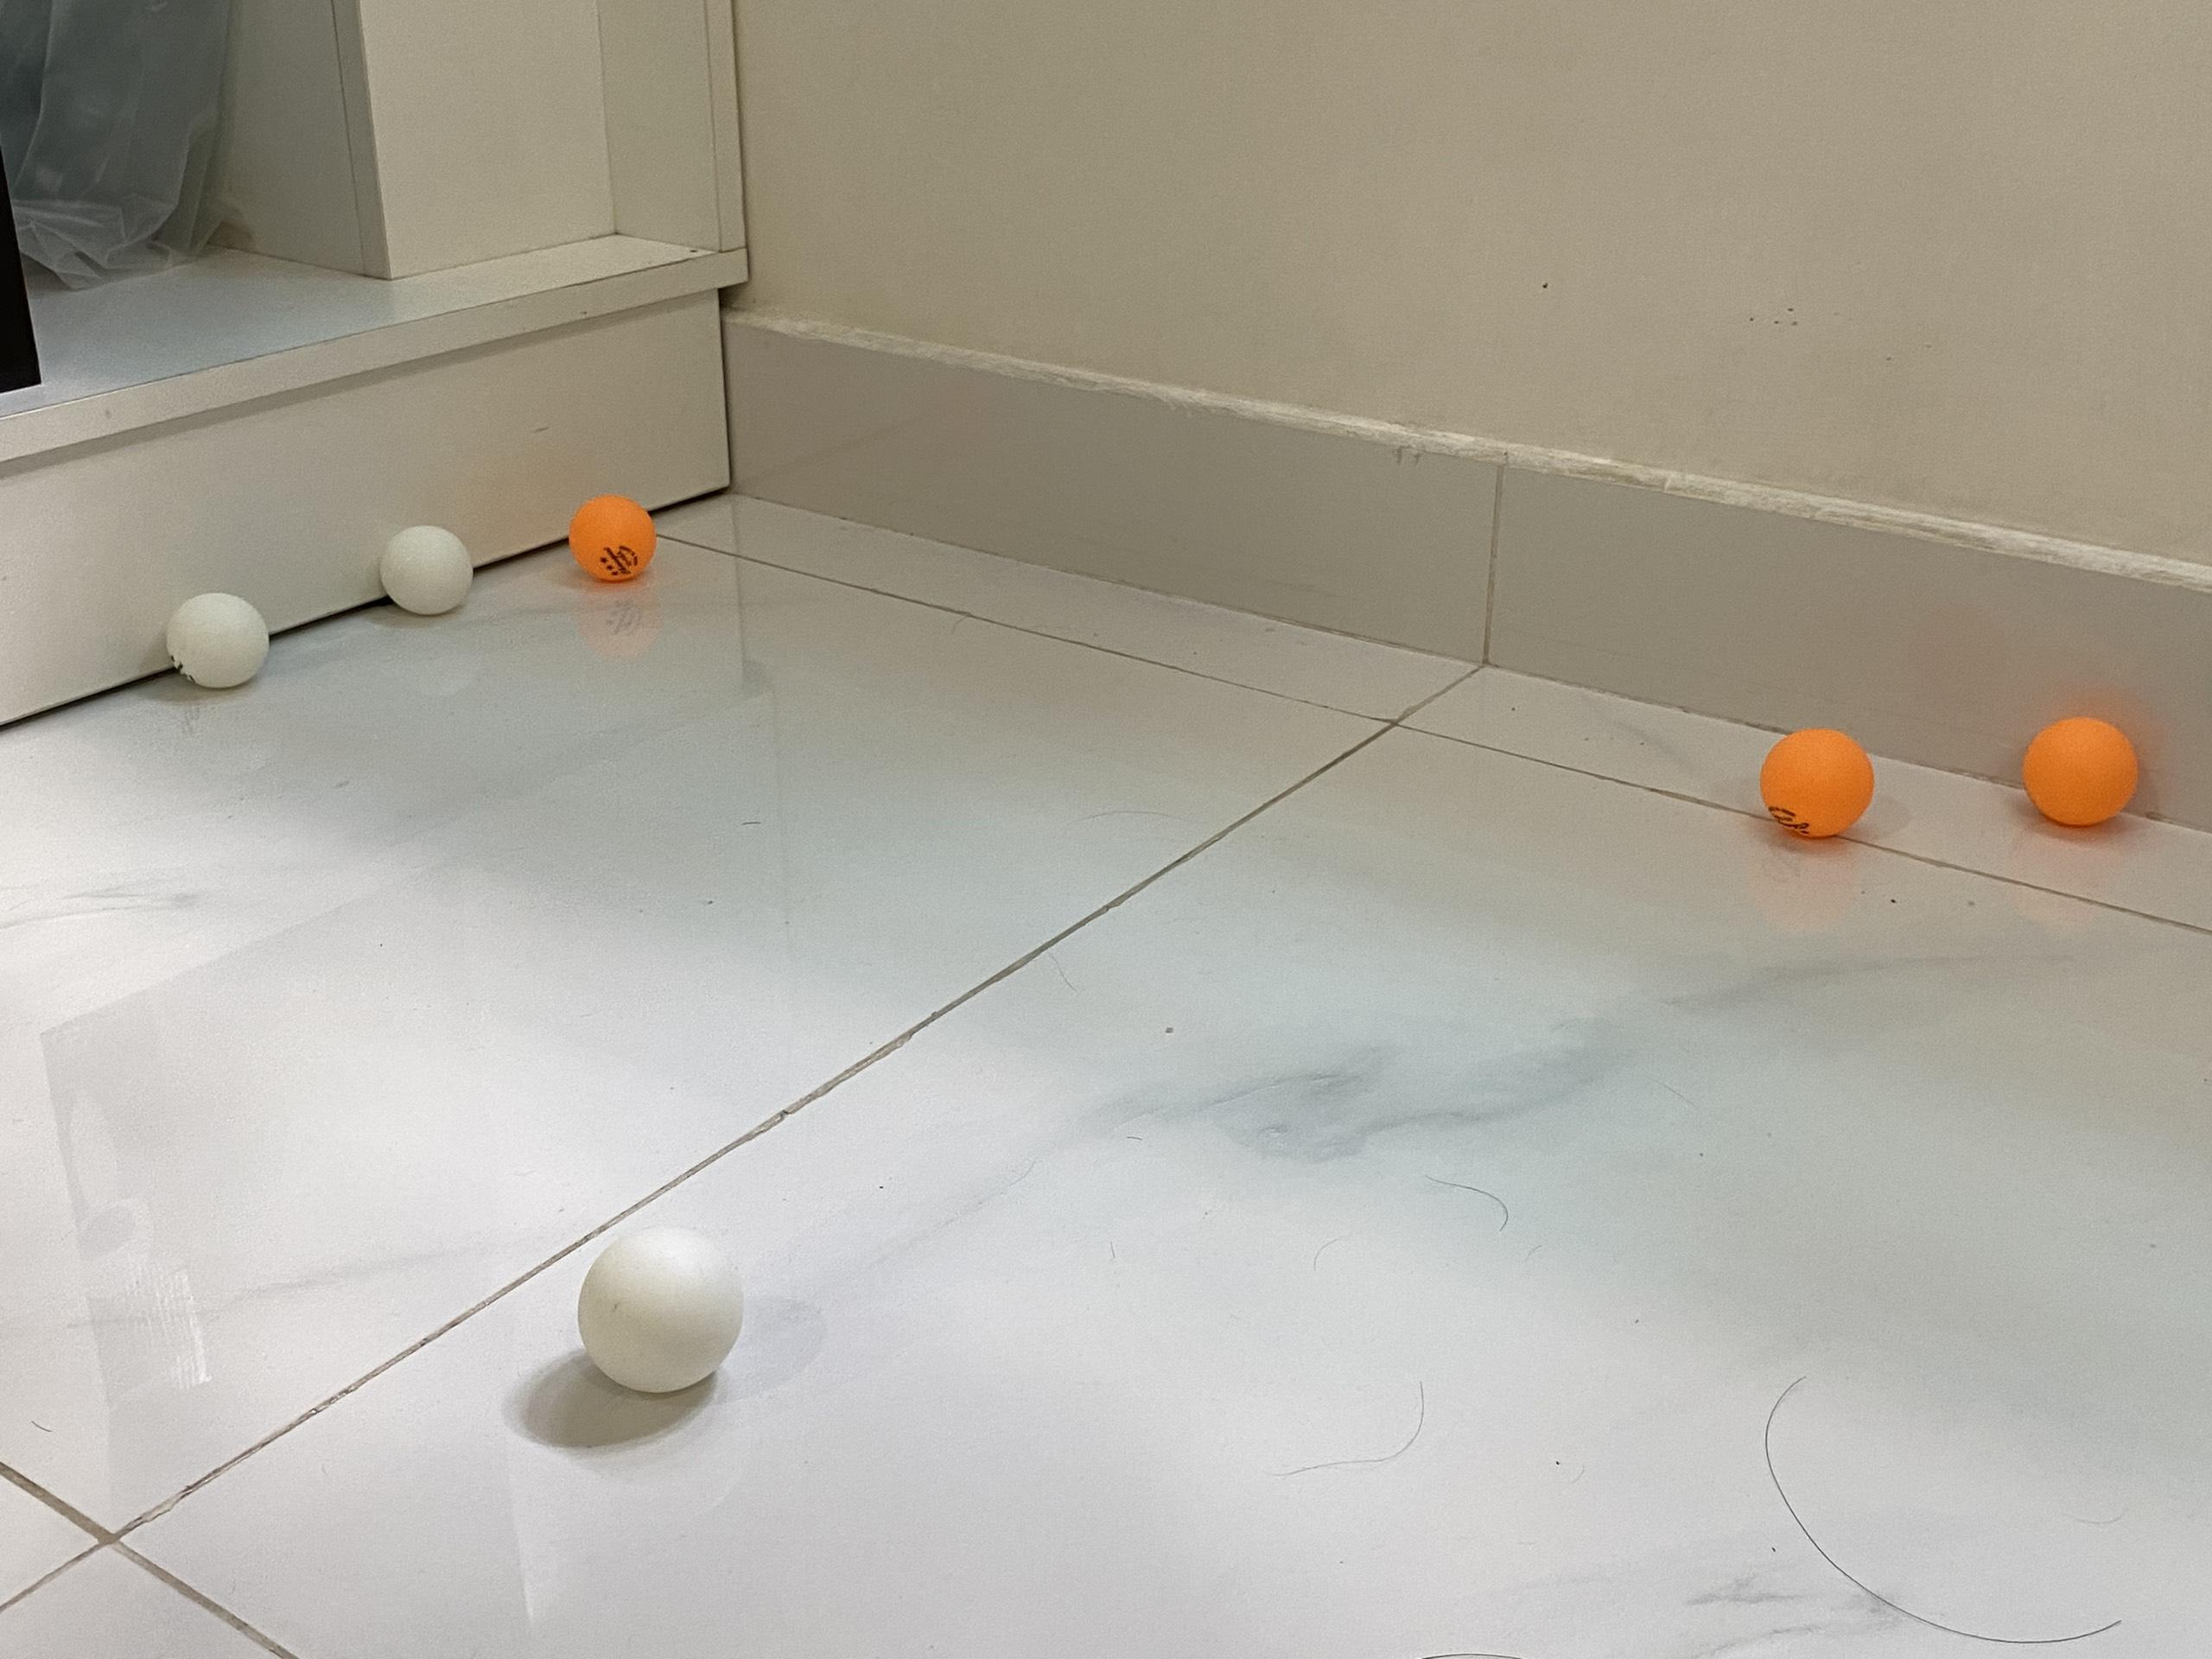oball: (1759, 725, 1876, 838), (2024, 714, 2141, 828), (564, 493, 657, 580)
